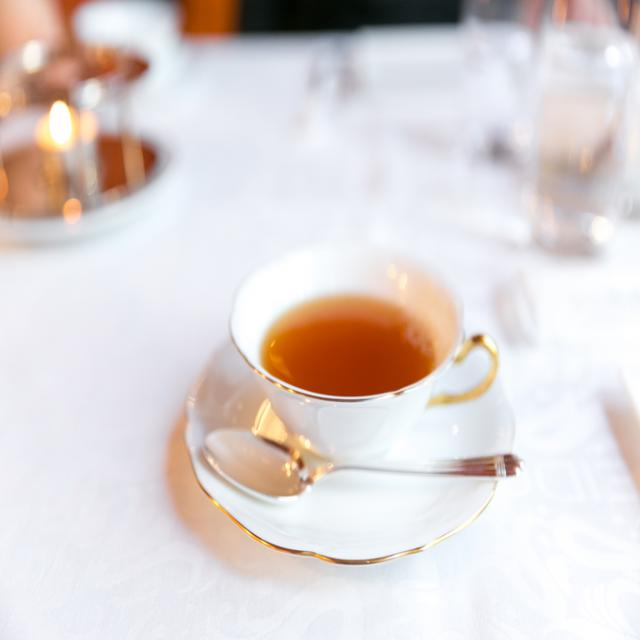Tea: (222, 237, 506, 467), (261, 285, 435, 394)
